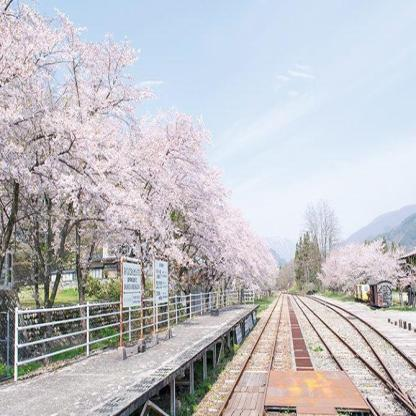Someiyoshino: (0, 3, 280, 294), (322, 240, 416, 287)
